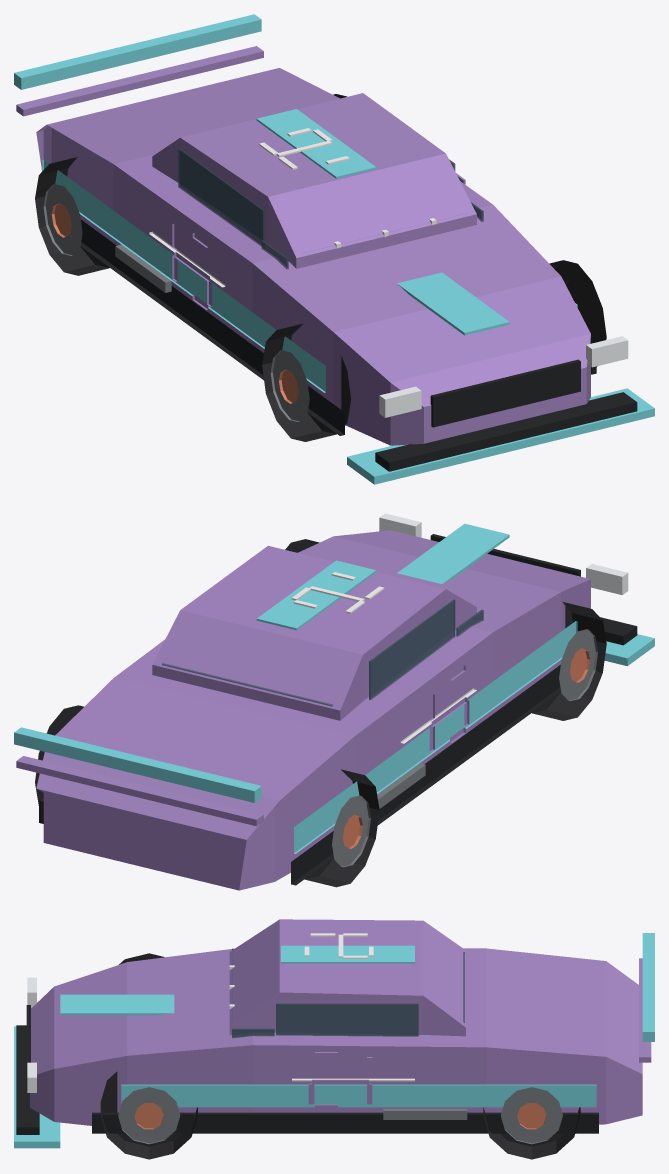
The model's file is web_stock_car_06.gltf.
The picture shows the model from 3 angles, top to bottom: view 1: azimuth 30°, elevation 25°; view 2: azimuth 150°, elevation 25°; view 3: azimuth 270°, elevation 25°; orthographic projection. The views are drawn at different scales.
Parts seen in each view (by area): view 1: WebStockCar_06; view 2: WebStockCar_06; view 3: WebStockCar_06.
Boxes of the visible parts, x1,y1,x2,y2 form: WebStockCar_06: (14,14,654,484); WebStockCar_06: (14,513,654,890); WebStockCar_06: (14,919,654,1159).
Bounding box in the file's own units: 2.35 × 1.34 × 5.26.
